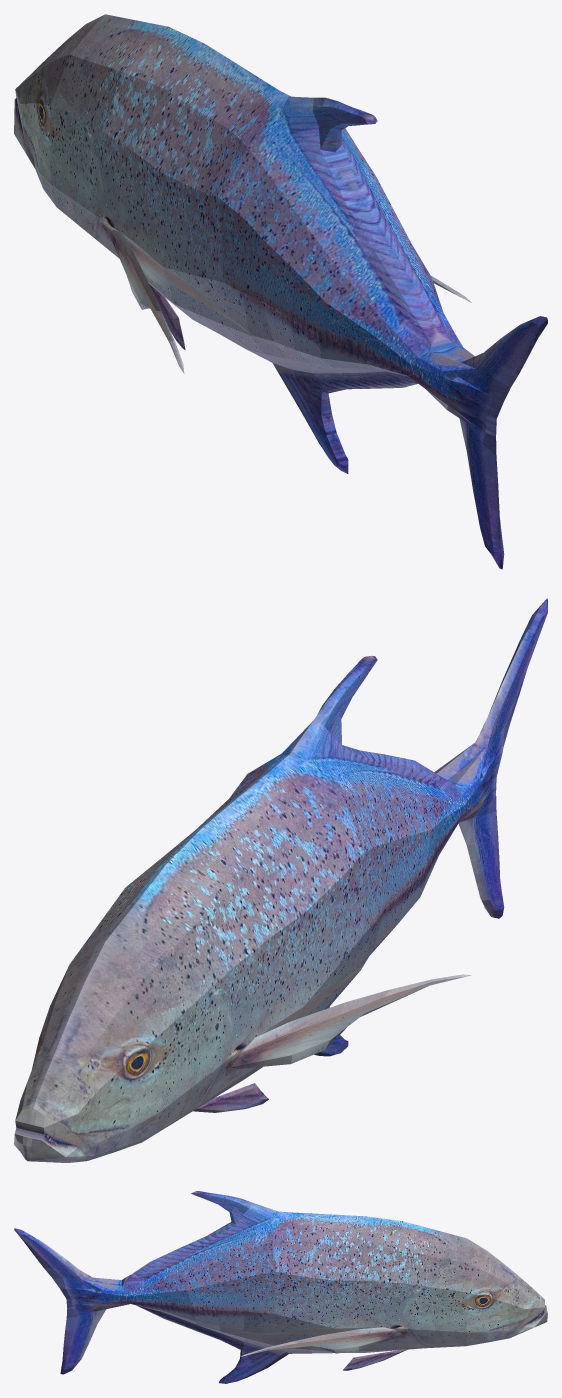
File: caranx-melampygus.glb
3 renders of one model, top to bottom at view 1: azimuth 30°, elevation 25°; view 2: azimuth 150°, elevation 25°; view 3: azimuth 270°, elevation 25°, orthographic. The views are drawn at different scales.
Parts seen in each view (by area): view 1: caranx_melampygus, pectoral.l, pelvic.l; view 2: caranx_melampygus, pectoral.l, pelvic.l; view 3: caranx_melampygus, pectoral.r, pelvic.r.
Part boxes in pixels (box(x1,y1,x2,y2)): caranx_melampygus: box(14, 14, 547, 569); pectoral.l: box(109, 230, 184, 373); pelvic.l: box(149, 284, 185, 350); caranx_melampygus: box(14, 598, 547, 1162); pectoral.l: box(231, 974, 471, 1068); pelvic.l: box(193, 1083, 268, 1112); caranx_melampygus: box(14, 1191, 547, 1383); pectoral.r: box(240, 1327, 401, 1356); pelvic.r: box(343, 1349, 407, 1370).
Size of the model in its own units: 0.2746 by 0.3408 by 0.859.
1 material, 1 textured.
